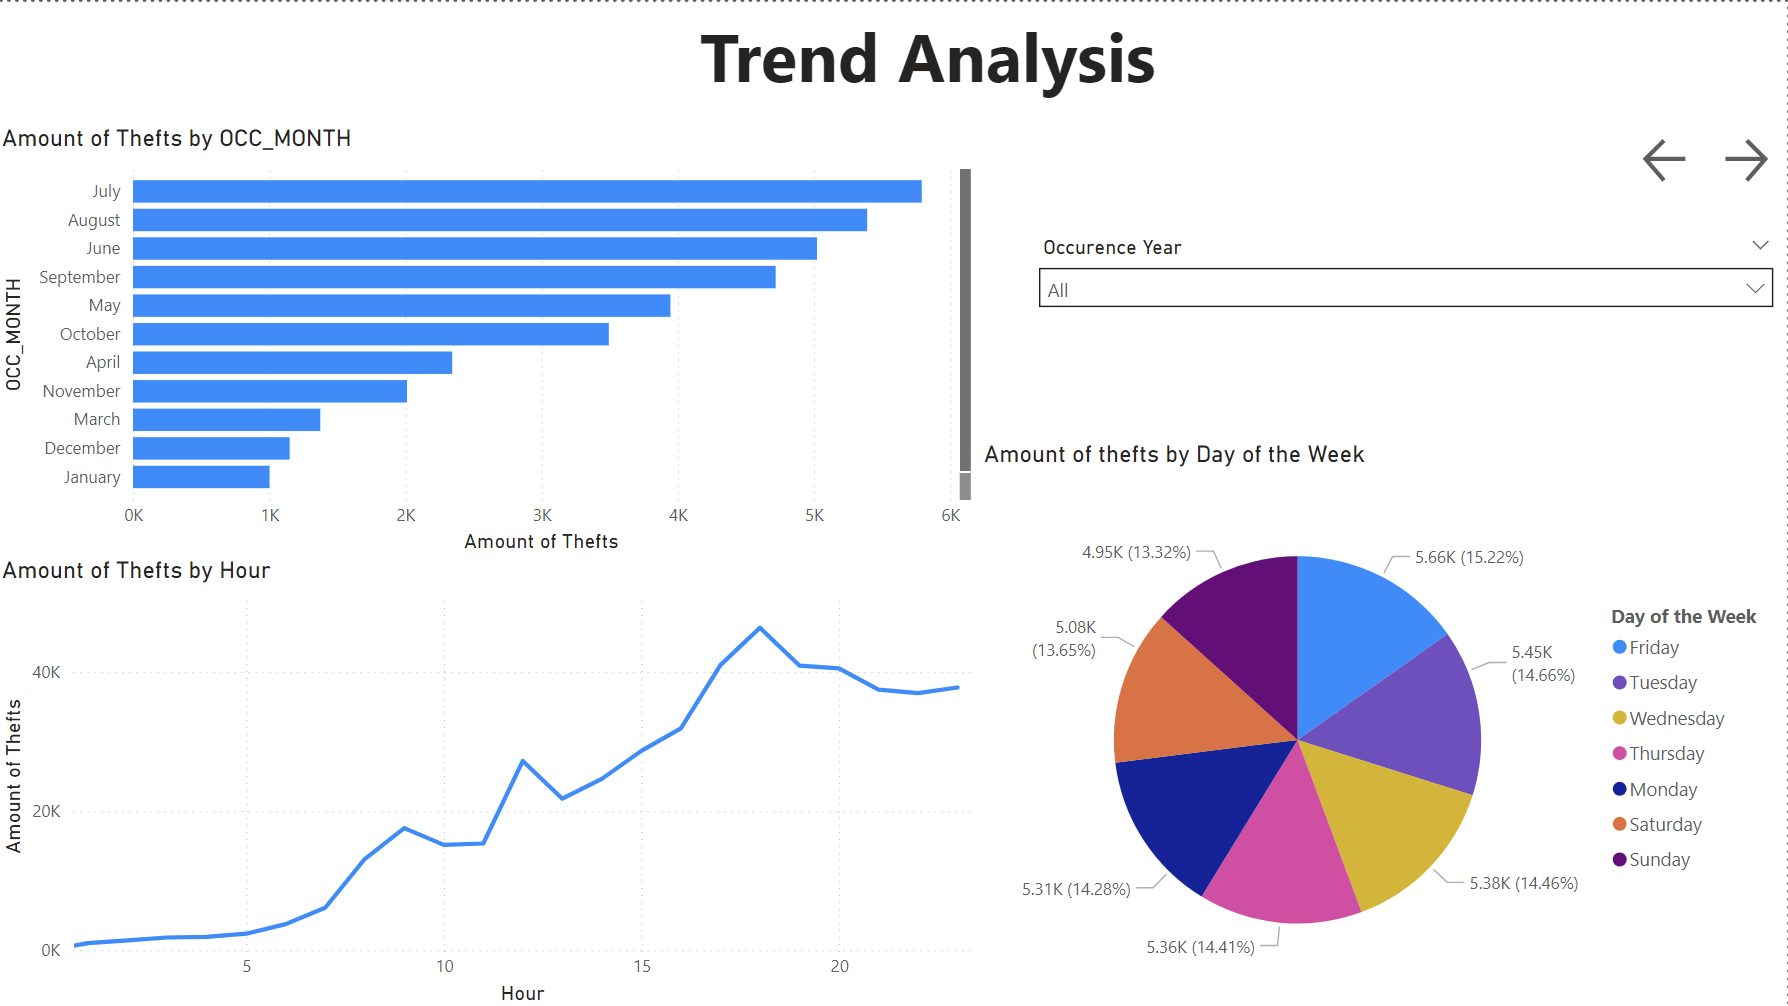

What the dashboard file says about the page in this screenshot:
{"tool":"powerbi","page":{"name":"Trend Analisys","canvas":[1280,720],"ordinal":1},"visuals":[{"type":"textbox","box":[0,0,1279.6,87.3],"z":0},{"type":"slicer","fields":{"Values":["Bicycle_Thefts.OCC_YEAR"]},"box":[735.7,161.4,544.3,81.4],"z":1},{"type":"actionButton","box":[1173,92.2,45.5,40.6],"z":2},{"type":"actionButton","box":[1229.6,92.2,50.4,40.6],"z":3},{"type":"pieChart","fields":{"Category":["Bicycle_Thefts.OCC_DOW"],"Y":["CountNonNull(Bicycle_Thefts.OCC_DOW)"]},"box":[702.1,312.3,577.9,409.5],"z":4},{"type":"lineChart","fields":{"Category":["Bicycle_Thefts.OCC_HOUR"],"Y":["Sum(Bicycle_Thefts.OCC_HOUR)"]},"box":[0,395,702.5,325],"z":5},{"type":"barChart","fields":{"Category":["Bicycle_Thefts.OCC_MONTH"],"Y":["CountNonNull(Bicycle_Thefts.OCC_MONTH)"]},"box":[0,87.3,702.1,311.1],"z":6}]}

Visuals, with their boxes in screenshot pixels (x1, y1, x2, y2), scaled from the page's 1280x720 canvas onto the 1788x1006 screenshot:
textbox: crop(0, 0, 1787, 122)
slicer - Bicycle_Thefts.OCC_YEAR: crop(1028, 226, 1787, 339)
actionButton: crop(1639, 129, 1702, 186)
actionButton: crop(1718, 129, 1787, 186)
pieChart - Bicycle_Thefts.OCC_DOW x CountNonNull(Bicycle_Thefts.OCC_DOW): crop(981, 436, 1787, 1005)
lineChart - Bicycle_Thefts.OCC_HOUR x Sum(Bicycle_Thefts.OCC_HOUR): crop(0, 552, 981, 1005)
barChart - Bicycle_Thefts.OCC_MONTH x CountNonNull(Bicycle_Thefts.OCC_MONTH): crop(0, 122, 981, 557)
